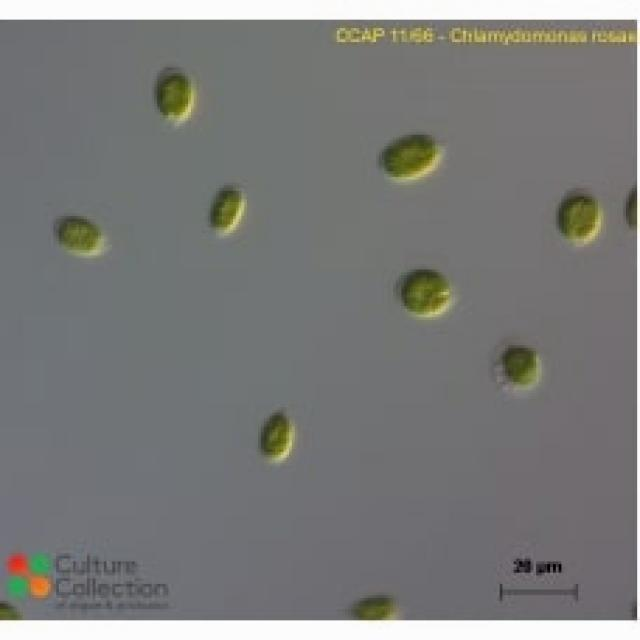Green Algae: (373, 126, 438, 182), (393, 264, 455, 317), (550, 185, 601, 247), (48, 213, 101, 261), (497, 342, 544, 396), (152, 64, 194, 124), (205, 180, 244, 238), (258, 407, 295, 463), (354, 592, 396, 618)
